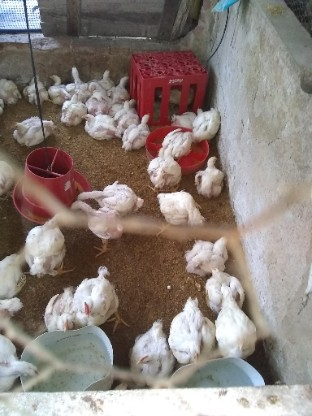Pollos: (72, 269, 127, 332), (119, 322, 172, 384), (168, 297, 216, 365), (22, 211, 68, 279), (70, 200, 123, 253), (216, 298, 260, 360), (152, 192, 204, 242), (73, 177, 138, 215), (141, 146, 185, 194), (0, 327, 27, 395), (203, 264, 243, 308), (183, 236, 226, 276), (39, 290, 79, 331), (0, 250, 22, 316), (197, 154, 226, 203), (158, 123, 191, 163), (9, 116, 54, 145), (191, 107, 226, 142), (125, 112, 155, 151), (78, 114, 117, 140), (158, 78, 193, 106), (0, 157, 18, 207), (59, 93, 83, 125), (168, 108, 199, 132), (27, 71, 48, 103), (46, 73, 69, 101), (1, 74, 21, 106), (85, 91, 107, 117), (115, 73, 132, 96), (70, 64, 87, 87), (99, 65, 115, 88), (120, 99, 131, 127), (87, 79, 98, 94), (130, 97, 140, 108)
